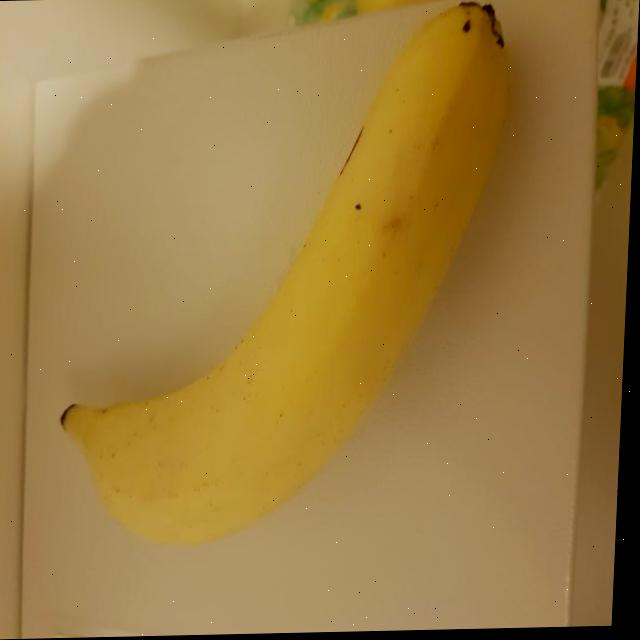banana: (32, 0, 526, 560)
